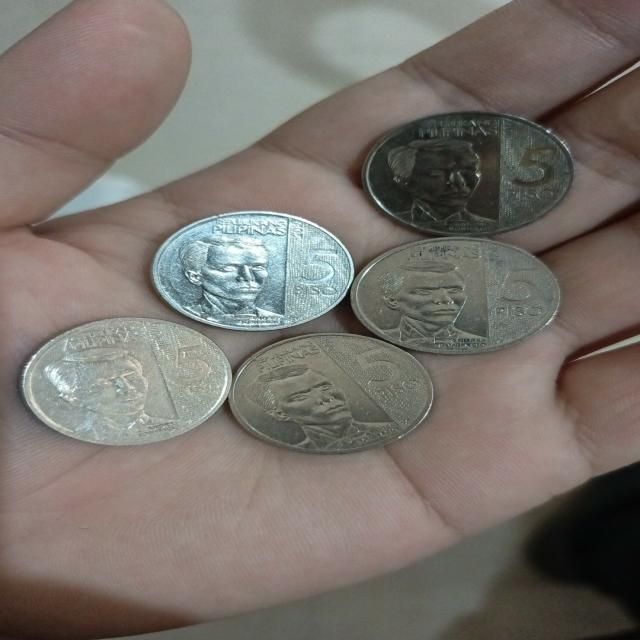5 peso: (347, 105, 585, 239), (18, 318, 233, 444), (227, 334, 434, 452), (350, 238, 560, 353), (150, 212, 351, 331)
